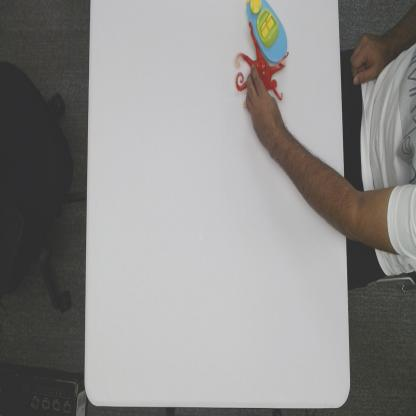Arm: (288, 131, 416, 257)
Boat: (245, 0, 287, 64)
Hand: (244, 64, 287, 153)
Octopus: (233, 19, 289, 102)
